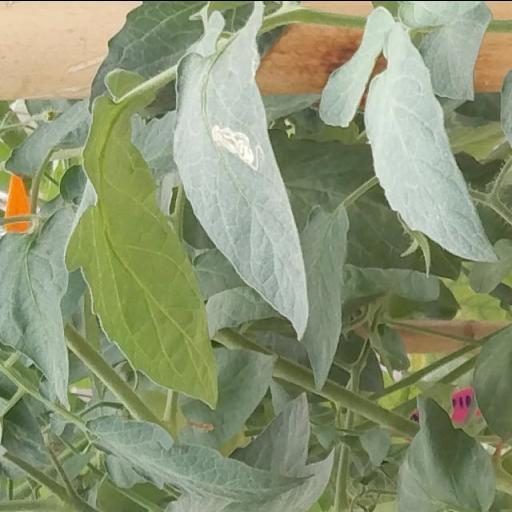Healthy: (364, 20, 504, 263), (84, 409, 316, 505)
Leaf Miner: (170, 0, 310, 338)
